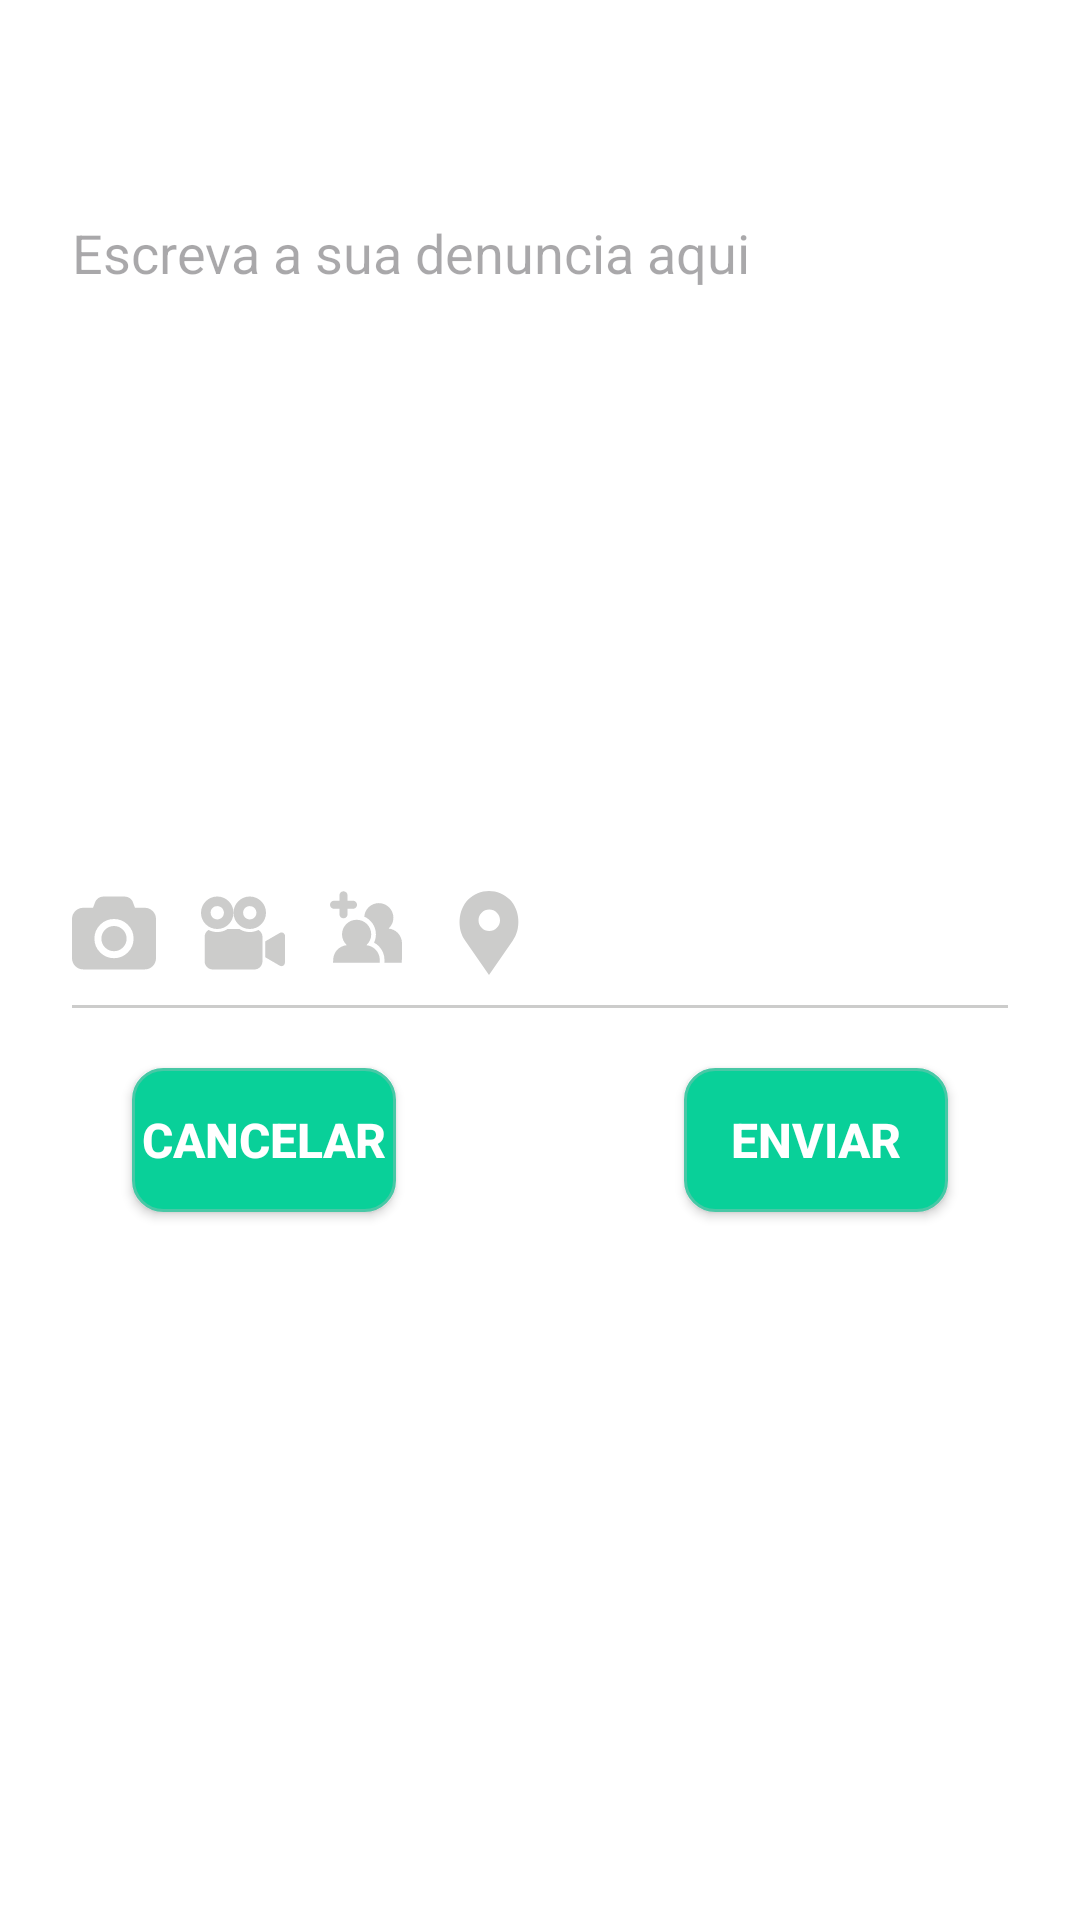

Point at icon controls on the screen. Image size 1080px x 1920px, points as point (x, y).
add friend: point (366, 927)
photo: point (114, 933)
video camera: point (243, 933)
